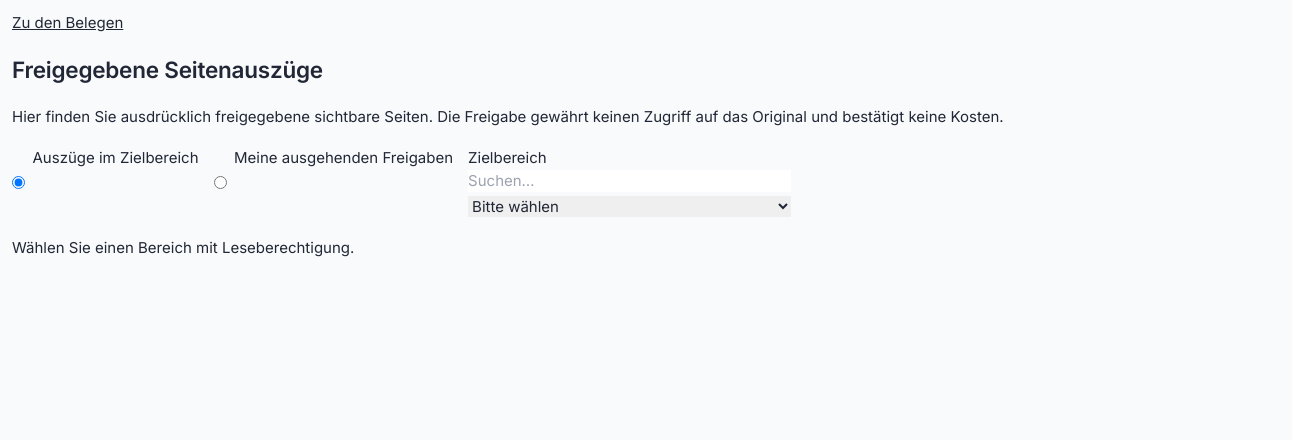
Test case: makes outgoing withdrawal management reachable without a destination selection
Click the radio button labelled "Meine ausgehenden Freigaben" at {"x": 220, "y": 183}, box [214,147,226,218]
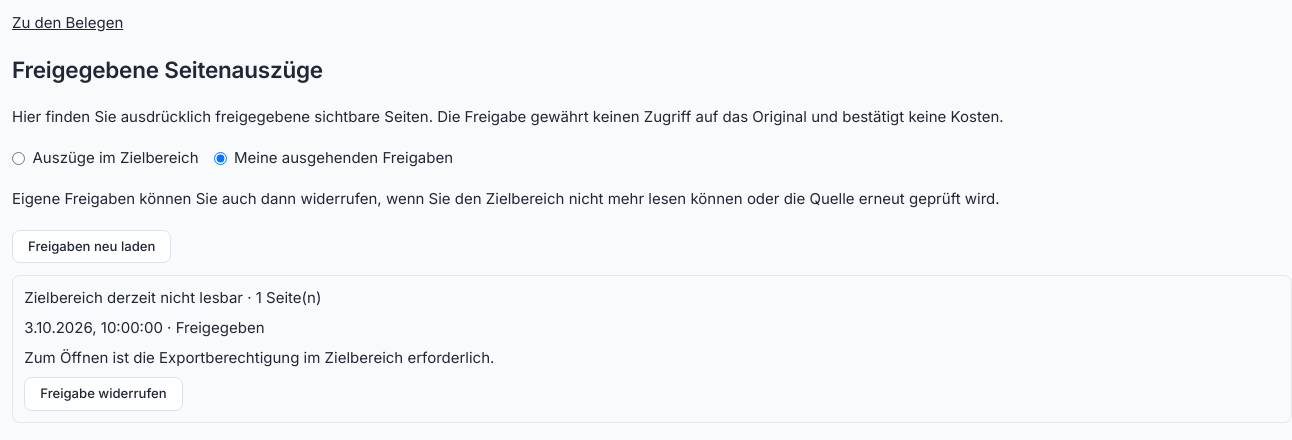
Result: the text "Zielbereich derzeit nicht lesbar · 1 Seite(n)" is shown at [24,288,321,307]
Result: the button "Freigabe widerrufen" is enabled at [24,377,183,411]
